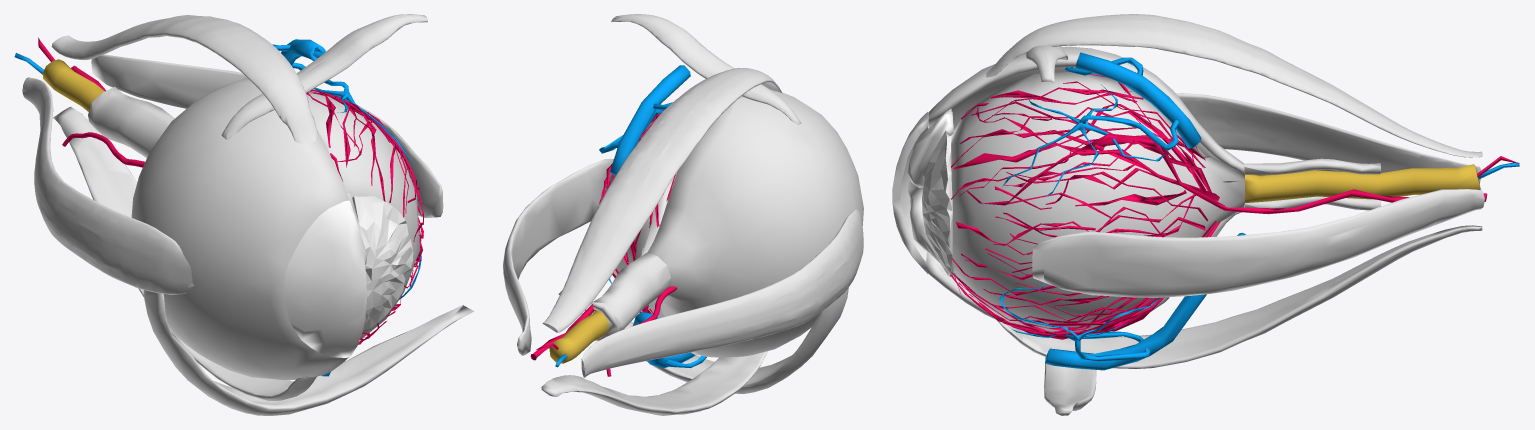
Rendered from eye.fbx.
The picture shows the model from 3 angles, left to right: view 1: azimuth 30°, elevation 25°; view 2: azimuth 150°, elevation 25°; view 3: azimuth 270°, elevation 25°; orthographic projection. The views are drawn at different scales.
Visible parts, largest first — view 1: eye_sphere_outside, muscle_1, eye_over_cornea, muscle_3, muscle_4, muscle_6, eye_sphere_inside, muscle_5, cornea_inside, muscle_0, nerv_element_3, half_veins (+3 smaller); view 2: eye_sphere_outside, muscle_3, muscle_1, muscle_6, muscle_5, nerv_element_3, muscle_0, muscle_4, vein_up, nerv_element_4, eye_sphere_inside, vein_down (+3 smaller); view 3: eye_sphere_inside, muscle_6, half_veins, muscle_3, muscle_1, muscle_5, eye_sphere_outside, nerv_element_4, vein_up, vein_down, cornea_inside, nerv_element_3 (+5 smaller).
Part boxes in pixels (box(x1,y1,x2,y2)): eye_sphere_outside: box(131, 77, 349, 380); muscle_1: box(22, 77, 193, 294); eye_over_cornea: box(283, 200, 366, 357); muscle_3: box(51, 15, 317, 145); muscle_4: box(143, 290, 474, 415); muscle_6: box(91, 54, 443, 217); eye_sphere_inside: box(306, 93, 420, 338); muscle_5: box(53, 106, 317, 400); cornea_inside: box(352, 196, 413, 330); muscle_0: box(221, 14, 427, 139); nerv_element_3: box(88, 87, 174, 158); half_veins: box(306, 89, 423, 344); eye_sphere_outside: box(648, 89, 863, 357); muscle_3: box(542, 68, 782, 332); muscle_1: box(581, 209, 863, 377); muscle_6: box(503, 158, 613, 355); muscle_5: box(541, 351, 767, 415); nerv_element_3: box(592, 252, 671, 340); muscle_0: box(611, 14, 801, 124); muscle_4: box(558, 288, 848, 393); vein_up: box(599, 65, 690, 174); nerv_element_4: box(549, 310, 609, 363); eye_sphere_inside: box(605, 121, 676, 318); vein_down: box(609, 278, 706, 368); eye_sphere_inside: box(951, 72, 1244, 331); muscle_6: box(1032, 189, 1484, 297); half_veins: box(951, 71, 1224, 339); muscle_3: box(985, 14, 1482, 157); muscle_1: box(1176, 93, 1480, 183); muscle_5: box(996, 225, 1482, 368); eye_sphere_outside: box(926, 46, 1244, 333); nerv_element_4: box(1244, 164, 1480, 202); vein_up: box(1002, 52, 1201, 197); vein_down: box(999, 232, 1246, 370); cornea_inside: box(922, 130, 954, 276); nerv_element_3: box(1244, 158, 1381, 210).
Size of the model in its own units: 5.59 by 5.79 by 8.75.
